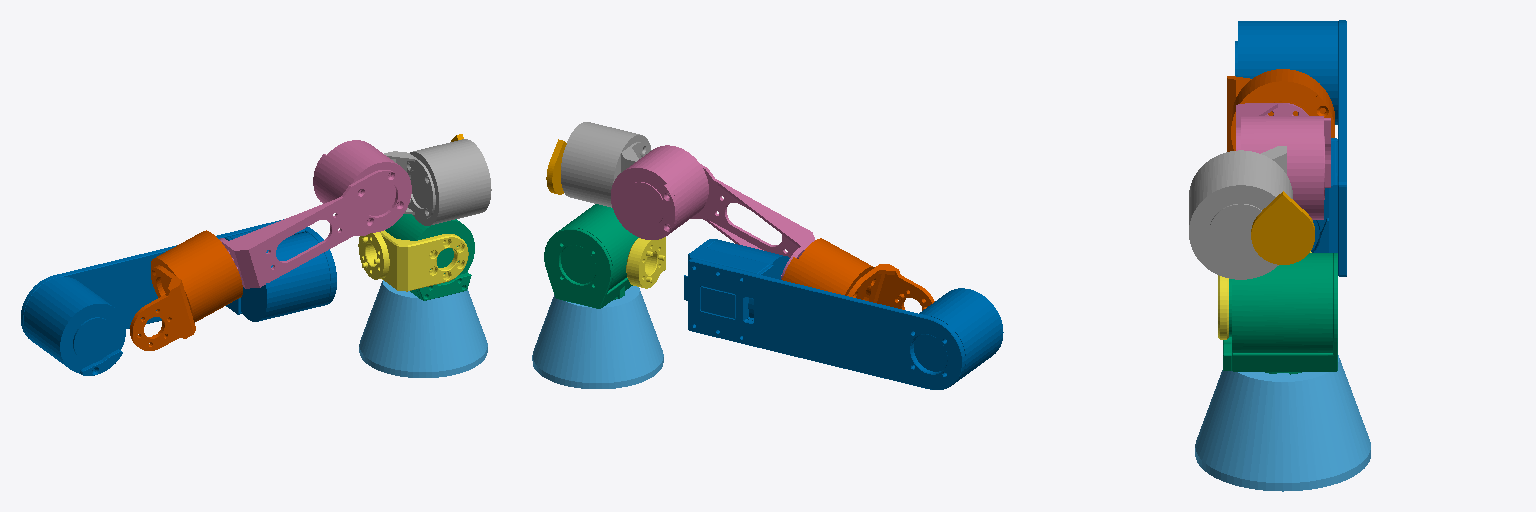
The robot description file, URDF, robot "swingarm_v2":
<?xml version="1.0" ?>
<!-- =================================================================================== -->
<!-- |    This document was autogenerated by xacro from robot.xacro                    | -->
<!-- |    EDITING THIS FILE BY HAND IS NOT RECOMMENDED                                 | -->
<!-- =================================================================================== -->
<robot name="swingarm_v2">
  <link name="world"/>
  <link name="base_link">
    <inertial>
      <origin rpy="0 0 0" xyz="0.0 0.0 0.028"/>
      <mass value="0.498"/>
      <inertia ixx="0.00027600000000000004" ixy="4.484e-08" ixz="-8.321810000000001e-07" iyy="0.0002769" iyz="1.42e-10" izz="0.000293"/>
    </inertial>
    <visual>
      <origin rpy="0 0 0" xyz="0 0 0"/>
      <geometry>
        <mesh filename="package://swingarm_v2_cnc_config/description/meshes/base_link.stl" scale="1 1 1"/>
      </geometry>
    </visual>
    <collision>
      <origin rpy="0 0 0" xyz="0 0 0"/>
      <geometry>
        <mesh filename="package://swingarm_v2_cnc_config/description/meshes/base_link.stl" scale="1 1 1"/>
      </geometry>
    </collision>
  </link>
  <link name="link1">
    <inertial>
      <origin rpy="0 0 0" xyz="0.0 -0.002 0.031"/>
      <mass value="0.432"/>
      <inertia ixx="0.00022150000000000002" ixy="7.813980000000001e-07" ixz="-7.29e-09" iyy="0.0001987" iyz="-6.728010000000001e-07" izz="0.0002012"/>
    </inertial>
    <visual>
      <origin rpy="0 0 0" xyz="0 0 0"/>
      <geometry>
        <mesh filename="package://swingarm_v2_cnc_config/description/meshes/link1.stl" scale="1 1 1"/>
      </geometry>
    </visual>
    <collision>
      <origin rpy="0 0 0" xyz="0 0 0"/>
      <geometry>
        <mesh filename="package://swingarm_v2_cnc_config/description/meshes/link1.stl" scale="1 1 1"/>
      </geometry>
    </collision>
  </link>
  <link name="link2">
    <inertial>
      <origin rpy="0 0 0" xyz="-0.055 -0.005 0.0"/>
      <mass value="0.553"/>
      <inertia ixx="0.0002747" ixy="0.0001009" ixz="-7.5e-11" iyy="0.0004359" iyz="-3.2072000000000004e-08" izz="0.0004935"/>
    </inertial>
    <visual>
      <origin rpy="0 0 0" xyz="0 0 0"/>
      <geometry>
        <mesh filename="package://swingarm_v2_cnc_config/description/meshes/link2.stl" scale="1 1 1"/>
      </geometry>
    </visual>
    <collision>
      <origin rpy="0 0 0" xyz="0 0 0"/>
      <geometry>
        <mesh filename="package://swingarm_v2_cnc_config/description/meshes/link2.stl" scale="1 1 1"/>
      </geometry>
    </collision>
  </link>
  <link name="link3">
    <inertial>
      <origin rpy="0 0 0" xyz="-0.112 0.001 -0.015"/>
      <mass value="0.952"/>
      <inertia ixx="0.0007244" ixy="4.3165882000000004e-05" ixz="0.00045200000000000004" iyy="0.003268" iyz="-2.5065069e-05" izz="0.0033360000000000004"/>
    </inertial>
    <visual>
      <origin rpy="0 0 0" xyz="0 0 0"/>
      <geometry>
        <mesh filename="package://swingarm_v2_cnc_config/description/meshes/link3.stl" scale="1 1 1"/>
      </geometry>
    </visual>
    <collision>
      <origin rpy="0 0 0" xyz="0 0 0"/>
      <geometry>
        <mesh filename="package://swingarm_v2_cnc_config/description/meshes/link3.stl" scale="1 1 1"/>
      </geometry>
    </collision>
  </link>
  <link name="link4">
    <inertial>
      <origin rpy="0 0.286 0" xyz="0.048 -0.004 0.014"/>
      <mass value="0.48"/>
      <inertia ixx="0.00025760000000000003" ixy="-8.390805400000001e-05" ixz="-3.6204464000000004e-05" iyy="0.00032520000000000004" iyz="-2.4580606000000003e-05" izz="0.00036990000000000005"/>
    </inertial>
    <visual>
      <origin rpy="0 0.286 0" xyz="0 0 0"/>
      <geometry>
        <mesh filename="package://swingarm_v2_cnc_config/description/meshes/link4.stl" scale="1 1 1"/>
      </geometry>
    </visual>
    <collision>
      <origin rpy="0 0.286 0" xyz="0 0 0"/>
      <geometry>
        <mesh filename="package://swingarm_v2_cnc_config/description/meshes/link4.stl" scale="1 1 1"/>
      </geometry>
    </collision>
  </link>
  <link name="link5">
    <inertial>
      <origin rpy="0 0 0" xyz="0.089 0.0 0.004"/>
      <mass value="0.612"/>
      <inertia ixx="0.00023640000000000003" ixy="-8.627075e-06" ixz="0.00011760000000000001" iyy="0.001082" iyz="9.8253e-07" izz="0.001077"/>
    </inertial>
    <visual>
      <origin rpy="0 0 0" xyz="0 0 0"/>
      <geometry>
        <mesh filename="package://swingarm_v2_cnc_config/description/meshes/link5.stl" scale="1 1 1"/>
      </geometry>
    </visual>
    <collision>
      <origin rpy="0 0 0" xyz="0 0 0"/>
      <geometry>
        <mesh filename="package://swingarm_v2_cnc_config/description/meshes/link5.stl" scale="1 1 1"/>
      </geometry>
    </collision>
  </link>
  <link name="link6">
    <inertial>
      <origin rpy="0 0 0" xyz="0.05 0.0 0.0"/>
      <mass value="0.484"/>
      <inertia ixx="0.00022040000000000002" ixy="-6.5970771e-05" ixz="-2.3777000000000002e-08" iyy="0.00032490000000000004" iyz="1.02795e-07" izz="0.0003573"/>
    </inertial>
    <visual>
      <origin rpy="0 0 0" xyz="0 -0.023 0"/>
      <geometry>
        <mesh filename="package://swingarm_v2_cnc_config/description/meshes/link6.stl" scale="1 1 1"/>
      </geometry>
    </visual>
    <collision>
      <origin rpy="0 0 0" xyz="0 -0.023 0"/>
      <geometry>
        <mesh filename="package://swingarm_v2_cnc_config/description/meshes/link6.stl" scale="1 1 1"/>
      </geometry>
    </collision>
  </link>
  <link name="link7">
    <inertial>
      <origin rpy="0 0 0" xyz="0.005 0.0 0.001"/>
      <mass value="0.105"/>
      <inertia ixx="2.296e-05" ixy="0.0" ixz="-5.572e-09" iyy="1.383e-05" iyz="0.0" izz="1.089e-05"/>
    </inertial>
    <visual>
      <origin rpy="0 0 0" xyz="0 0 0"/>
      <geometry>
        <mesh filename="package://swingarm_v2_cnc_config/description/meshes/link7.stl" scale="1 1 1"/>
      </geometry>
    </visual>
    <collision>
      <origin rpy="0 0 0" xyz="0 0 0"/>
      <geometry>
        <mesh filename="package://swingarm_v2_cnc_config/description/meshes/link7.stl" scale="1 1 1"/>
      </geometry>
    </collision>
  </link>
  <joint name="fixed_world" type="fixed">
    <origin rpy="0 0 0" xyz="0 0 0"/>
    <parent link="world"/>
    <child link="base_link"/>
  </joint>
  <joint name="joint1" type="revolute">
    <origin rpy="0 0 0" xyz="0 0 0.0565"/>
    <parent link="base_link"/>
    <child link="link1"/>
    <axis xyz="0 0 1"/>
    <limit effort="30" lower="-1.57" upper="1.57" velocity="1.5"/>
  </joint>
  <joint name="joint2" type="revolute">
    <origin rpy="0 0 0" xyz="0 0 0.0335"/>
    <parent link="link1"/>
    <child link="link2"/>
    <axis xyz="0 1 0"/>
    <limit effort="30" lower="0" upper="3.14" velocity="1.5"/>
  </joint>
  <joint name="joint3" type="revolute">
    <origin rpy="0 0 0" xyz="-0.095 0 0"/>
    <parent link="link2"/>
    <child link="link3"/>
    <axis xyz="1 0 0"/>
    <limit effort="30" lower="-3.14" upper="0.0" velocity="1.5"/>
  </joint>
  <joint name="joint4" type="revolute">
    <origin rpy="0 -0.286 0" xyz="-0.155 0 0"/>
    <parent link="link3"/>
    <child link="link4"/>
    <axis xyz="0 1 0"/>
    <limit effort="10" lower="-1.1" upper="0.3" velocity="1.5"/>
  </joint>
  <joint name="joint5" type="revolute">
    <origin rpy="0  0  0" xyz="0.0845 0 0"/>
    <parent link="link4"/>
    <child link="link5"/>
    <axis xyz="1 0 0"/>
    <limit effort="10" lower="-0.785" upper="0.785" velocity="1.5"/>
  </joint>
  <joint name="joint6" type="revolute">
    <origin rpy="0 0.286 0" xyz="0.1177 0 0"/>
    <parent link="link5"/>
    <child link="link6"/>
    <axis xyz="0 1 0"/>
    <limit effort="10" lower="-1.57" upper="1.57" velocity="1.5"/>
  </joint>
  <joint name="joint7" type="revolute">
    <origin rpy="0 0 0" xyz="0.0845 0 0"/>
    <parent link="link6"/>
    <child link="link7"/>
    <axis xyz="1 0 0"/>
    <limit effort="10" lower="-1.57" upper="1.57" velocity="1.5"/>
  </joint>
  <transmission name="joint1_tran">
    <type>transmission_interface/SimpleTransmission</type>
    <joint name="joint1">
      <hardwareInterface>hardware_interface/EffortJointInterface</hardwareInterface>
    </joint>
    <actuator name="joint1_motor">
      <hardwareInterface>hardware_interface/EffortJointInterface</hardwareInterface>
      <mechanicalReduction>1</mechanicalReduction>
    </actuator>
  </transmission>
  <transmission name="joint2_tran">
    <type>transmission_interface/SimpleTransmission</type>
    <joint name="joint2">
      <hardwareInterface>hardware_interface/EffortJointInterface</hardwareInterface>
    </joint>
    <actuator name="joint2_motor">
      <hardwareInterface>hardware_interface/EffortJointInterface</hardwareInterface>
      <mechanicalReduction>-1</mechanicalReduction>
    </actuator>
  </transmission>
  <transmission name="joint3_tran">
    <type>transmission_interface/SimpleTransmission</type>
    <joint name="joint3">
      <hardwareInterface>hardware_interface/EffortJointInterface</hardwareInterface>
    </joint>
    <actuator name="joint3_motor">
      <hardwareInterface>hardware_interface/EffortJointInterface</hardwareInterface>
      <mechanicalReduction>1</mechanicalReduction>
    </actuator>
  </transmission>
  <transmission name="joint4_tran">
    <type>transmission_interface/SimpleTransmission</type>
    <joint name="joint4">
      <hardwareInterface>hardware_interface/EffortJointInterface</hardwareInterface>
    </joint>
    <actuator name="joint4_motor">
      <hardwareInterface>hardware_interface/EffortJointInterface</hardwareInterface>
      <mechanicalReduction>-1</mechanicalReduction>
    </actuator>
  </transmission>
  <transmission name="joint5_tran">
    <type>transmission_interface/SimpleTransmission</type>
    <joint name="joint5">
      <hardwareInterface>hardware_interface/EffortJointInterface</hardwareInterface>
    </joint>
    <actuator name="joint5_motor">
      <hardwareInterface>hardware_interface/EffortJointInterface</hardwareInterface>
      <mechanicalReduction>-1</mechanicalReduction>
    </actuator>
  </transmission>
  <transmission name="joint6_tran">
    <type>transmission_interface/SimpleTransmission</type>
    <joint name="joint6">
      <hardwareInterface>hardware_interface/EffortJointInterface</hardwareInterface>
    </joint>
    <actuator name="joint6_motor">
      <hardwareInterface>hardware_interface/EffortJointInterface</hardwareInterface>
      <mechanicalReduction>1</mechanicalReduction>
    </actuator>
  </transmission>
  <gazebo>
    <plugin filename="libgazebo_ros_control.so" name="gazebo_ros_control">
      <robotNamespace>/</robotNamespace>
    </plugin>
  </gazebo>
</robot>

--- Facts derived from the render (not from the file) ---
The picture shows the robot from 3 angles, left to right: view 1: azimuth 30°, elevation 25°; view 2: azimuth 150°, elevation 25°; view 3: azimuth 270°, elevation 25°; orthographic projection.
Model swingarm_v2 with 9 links and 8 joints (7 revolute, 1 fixed), rooted at world, posed every joint at zero.
Links seen in each view (by area): view 1: link3, link5, base_link, link4, link6, link2, link1; view 2: link3, link5, base_link, link1, link4, link6, link2, link7; view 3: base_link, link1, link3, link6, link5, link4, link7, link2.
Boxes of the visible links, x1=… form: link3: x1=21, y1=219, x2=336, y2=375; link5: x1=219, y1=140, x2=411, y2=288; base_link: x1=359, y1=280, x2=487, y2=377; link4: x1=130, y1=230, x2=242, y2=350; link6: x1=384, y1=139, x2=491, y2=225; link2: x1=358, y1=230, x2=468, y2=291; link1: x1=385, y1=214, x2=474, y2=300; link3: x1=684, y1=239, x2=1003, y2=389; link5: x1=611, y1=145, x2=814, y2=279; base_link: x1=532, y1=286, x2=663, y2=388; link1: x1=544, y1=204, x2=638, y2=308; link4: x1=782, y1=238, x2=934, y2=310; link6: x1=561, y1=122, x2=651, y2=207; link2: x1=626, y1=237, x2=665, y2=288; link7: x1=546, y1=139, x2=566, y2=194; base_link: x1=1195, y1=355, x2=1370, y2=491; link1: x1=1223, y1=253, x2=1337, y2=374; link3: x1=1235, y1=20, x2=1346, y2=276; link6: x1=1189, y1=146, x2=1292, y2=279; link5: x1=1236, y1=103, x2=1330, y2=219; link4: x1=1227, y1=69, x2=1334, y2=151; link7: x1=1251, y1=191, x2=1314, y2=264; link2: x1=1218, y1=251, x2=1311, y2=339.
Size in the robot's own frame: 0.3763 by 0.0995 by 0.1767 metres.
8 mesh visuals loaded from 8 distinct referenced files (8 binary STL).